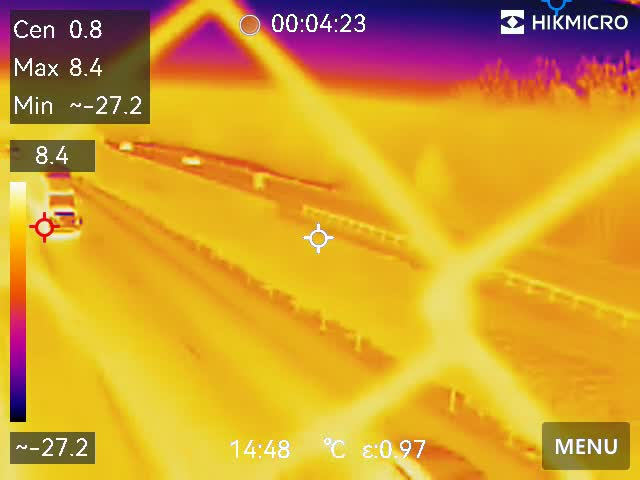heavyTruck: (33, 154, 82, 243)
vehicle: (180, 148, 203, 166)
